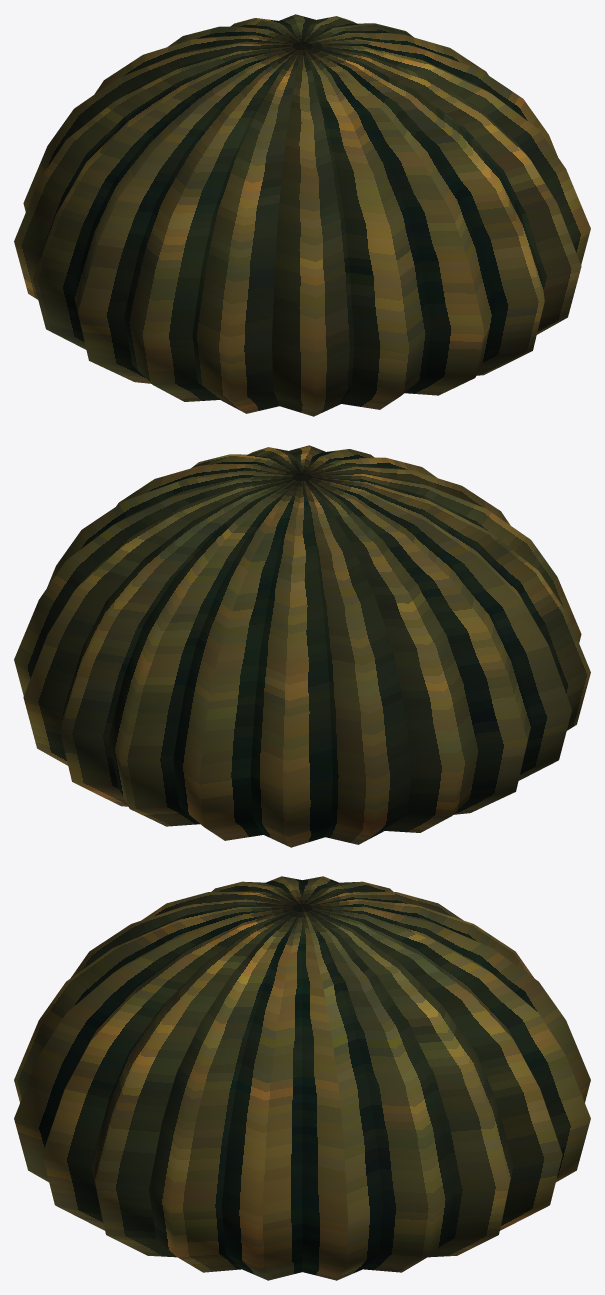
File: Model_Cactus_Orb.fbx
3 renders of one model, top to bottom at view 1: azimuth 30°, elevation 25°; view 2: azimuth 150°, elevation 25°; view 3: azimuth 270°, elevation 25°, orthographic.
Parts seen in each view (by area): view 1: Cactus_Orb; view 2: Cactus_Orb; view 3: Cactus_Orb.
Boxes of the visible parts, x1,y1,x2,y2 form: Cactus_Orb: (14,14,590,416); Cactus_Orb: (14,445,590,847); Cactus_Orb: (14,876,590,1280).
Size of the model in its own units: 47.41 by 27.34 by 47.41.
